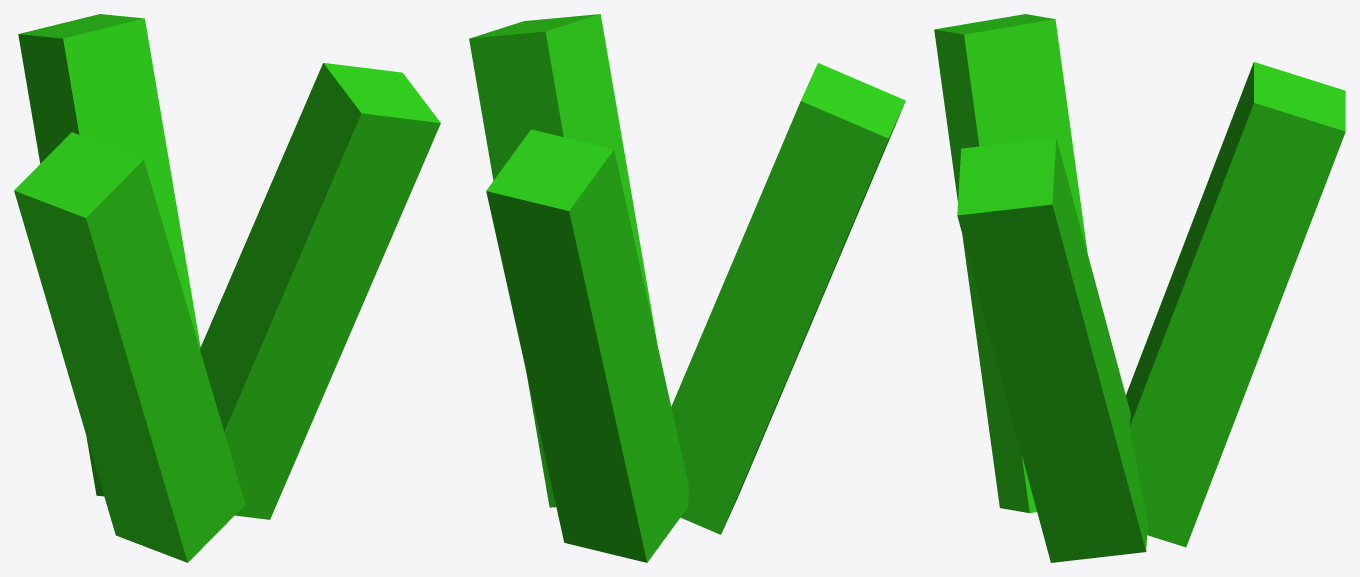
File: grass_3.fbx
The picture shows the model from 3 angles, left to right: view 1: azimuth 30°, elevation 25°; view 2: azimuth 150°, elevation 25°; view 3: azimuth 270°, elevation 25°; orthographic projection. The views are drawn at different scales.
Visible parts, largest first — view 1: Cube.075; view 2: Cube.075; view 3: Cube.075.
Boxes of the visible parts, left/top/right/bottom form: Cube.075: left=14, top=14, right=440, bottom=562; Cube.075: left=469, top=14, right=905, bottom=562; Cube.075: left=934, top=14, right=1345, bottom=562.
Bounding box in the file's own units: 98.09 × 103 × 84.78.
Materials: 1 (1 with a texture image).
